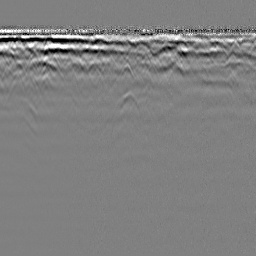cavity: (113, 88, 140, 112)
